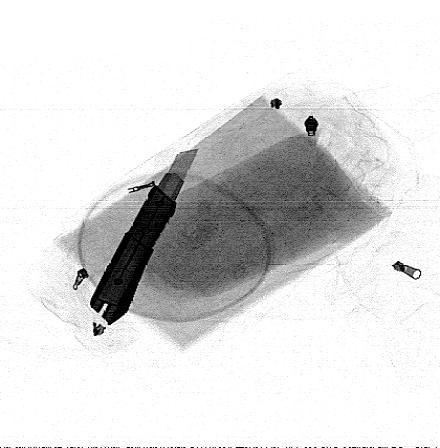Knife: (89, 146, 201, 327)
